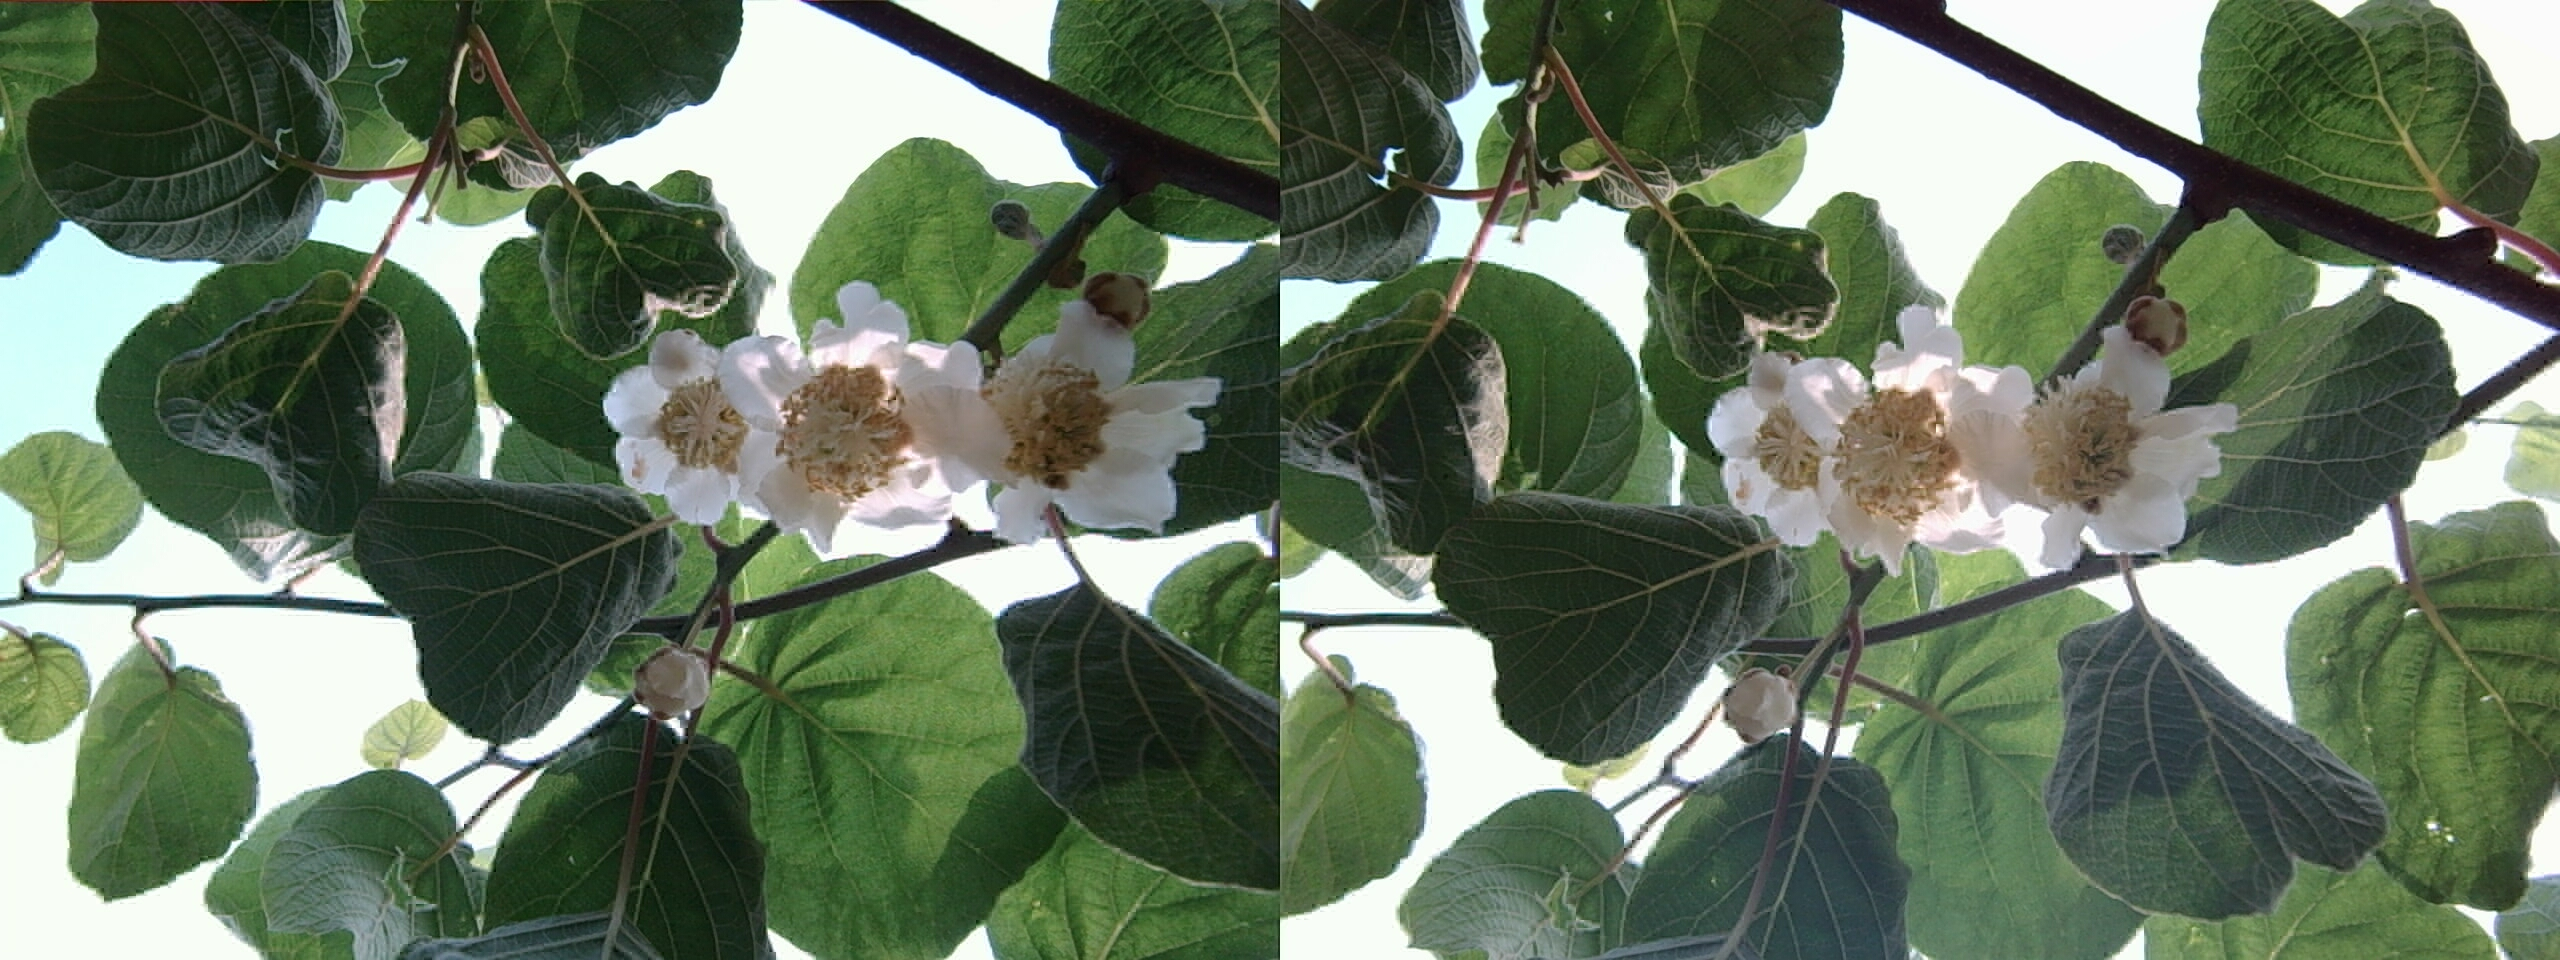flower: (922, 299, 1198, 539), (1953, 328, 2216, 555), (731, 313, 960, 540), (1789, 338, 2018, 558), (599, 318, 780, 519), (1709, 354, 1850, 540)
